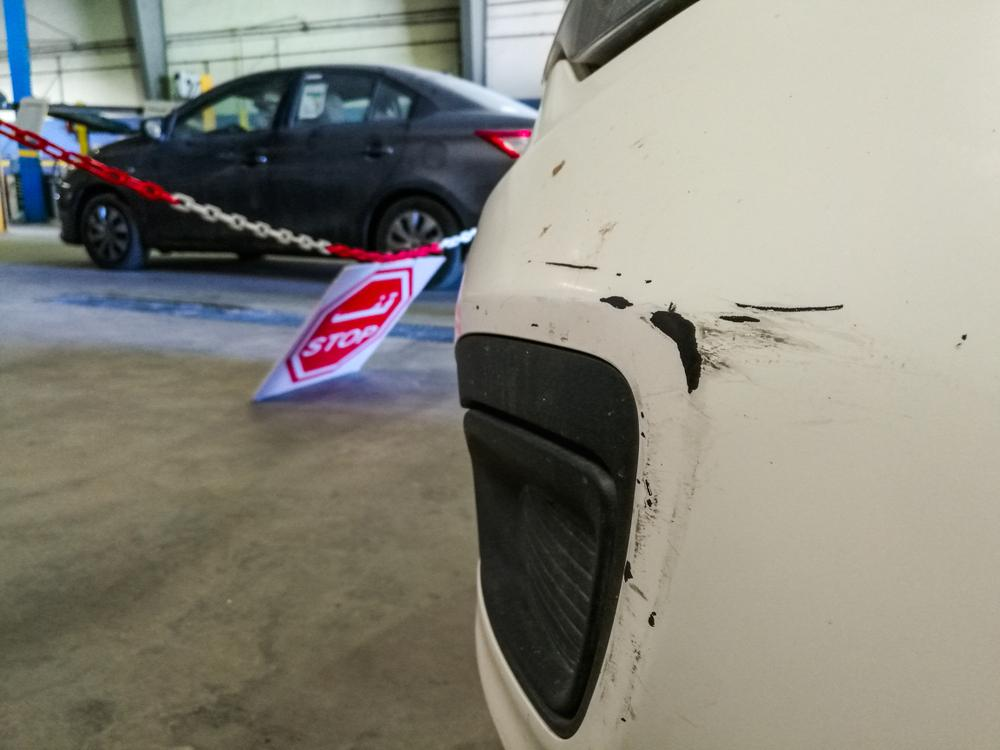scratch: (539, 231, 873, 723)
